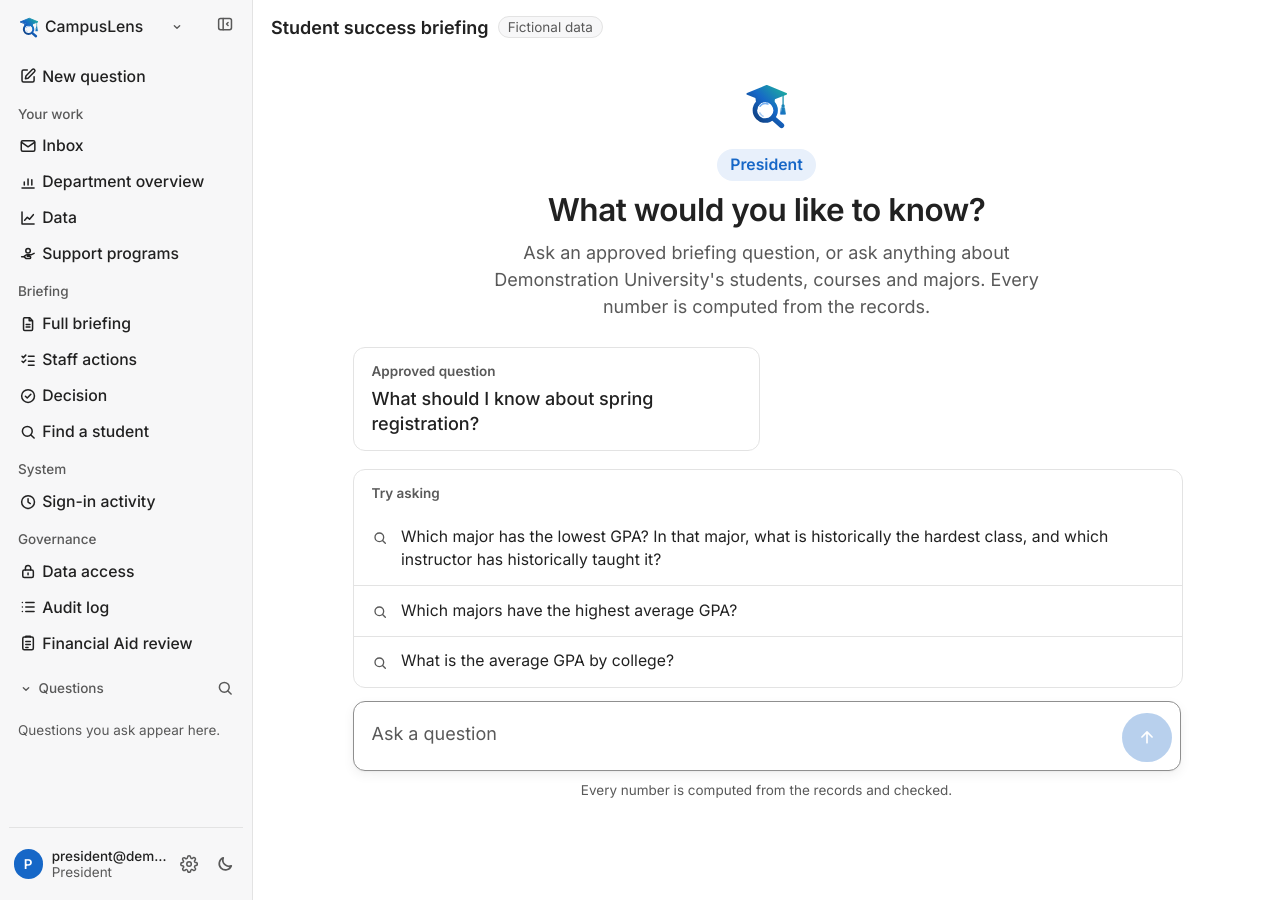
Test: the conversation › shows a failed audit log load as an error with Retry, never Loading forever
Check: the heading "What would you like to know?" is shown, box [548,190,985,230]
What coordinates should you click on to do the following:
click the button "Audit log"
I would click on:
 (126, 608)
Its box is [9,590,243,626].
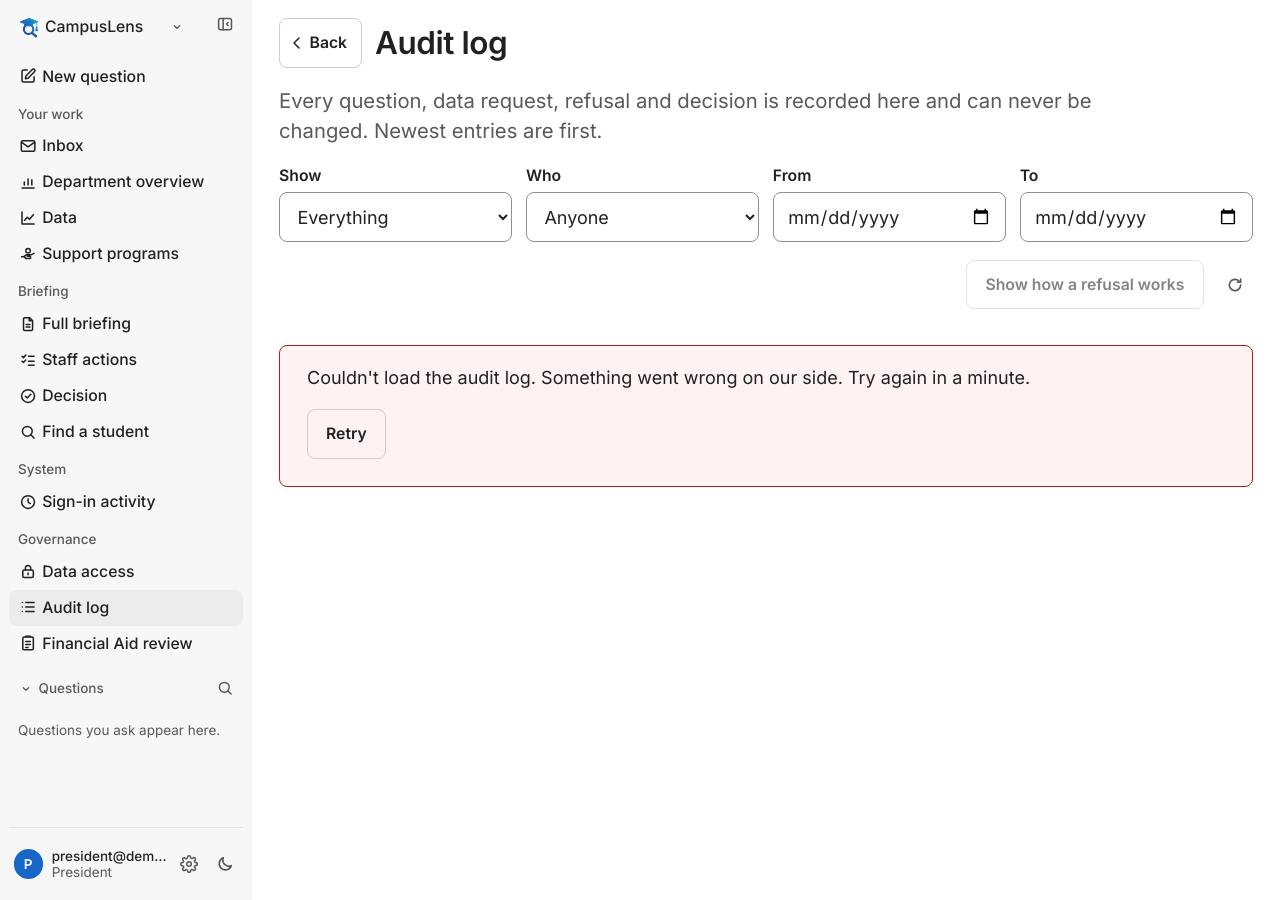
Check: the text "Couldn't load the audit log" is shown, box [307,367,541,388]
What coordinates should you click on to do the following:
click the button "Retry"
I would click on:
 (346, 434)
Its box is [307,409,386,459].
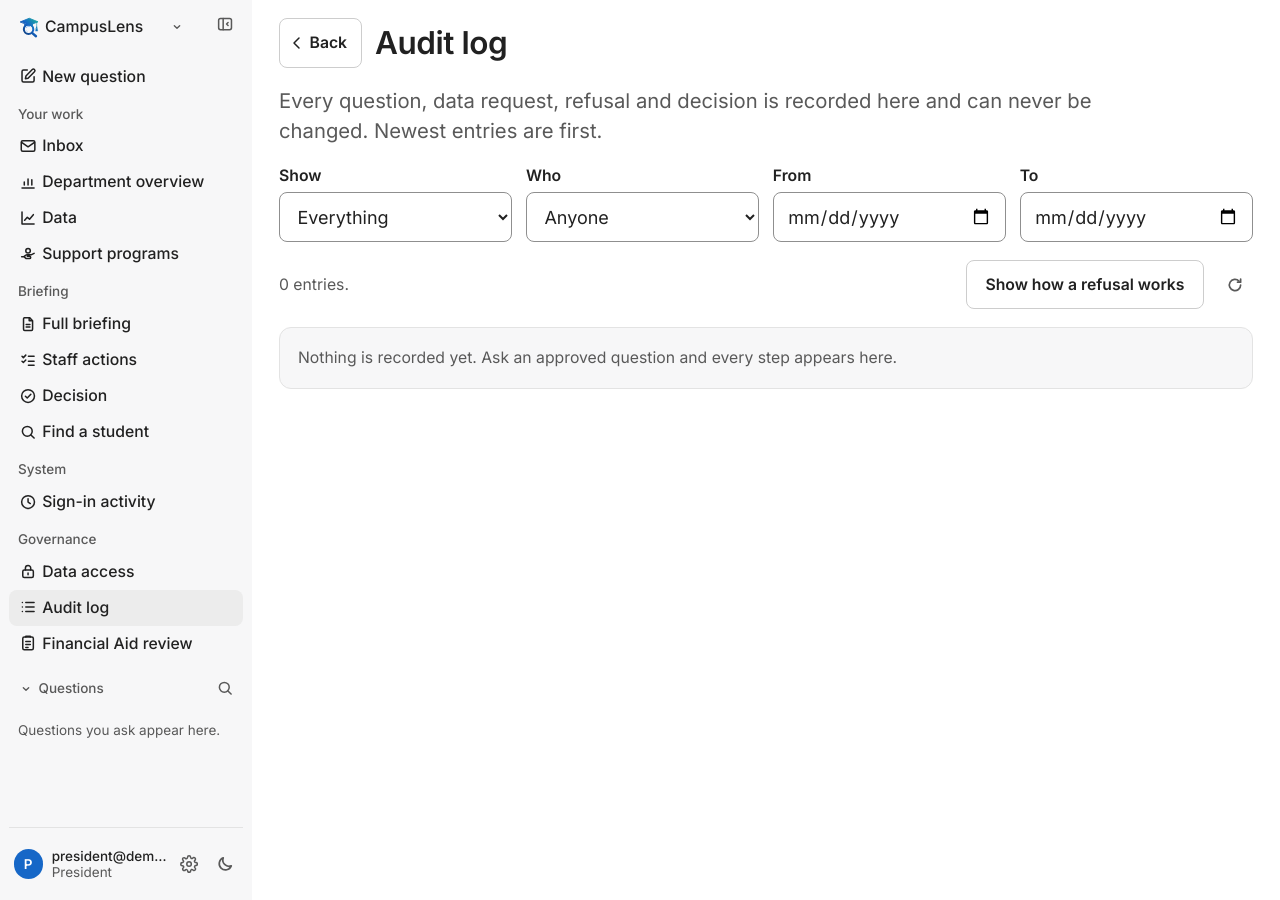
Check: the text "Couldn't load the audit log" is gone
